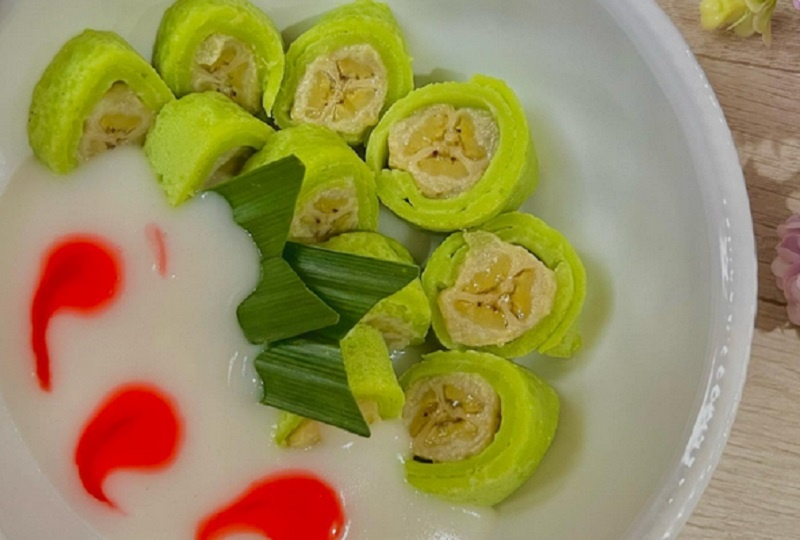pisang_ijo: (364, 75, 572, 256)
